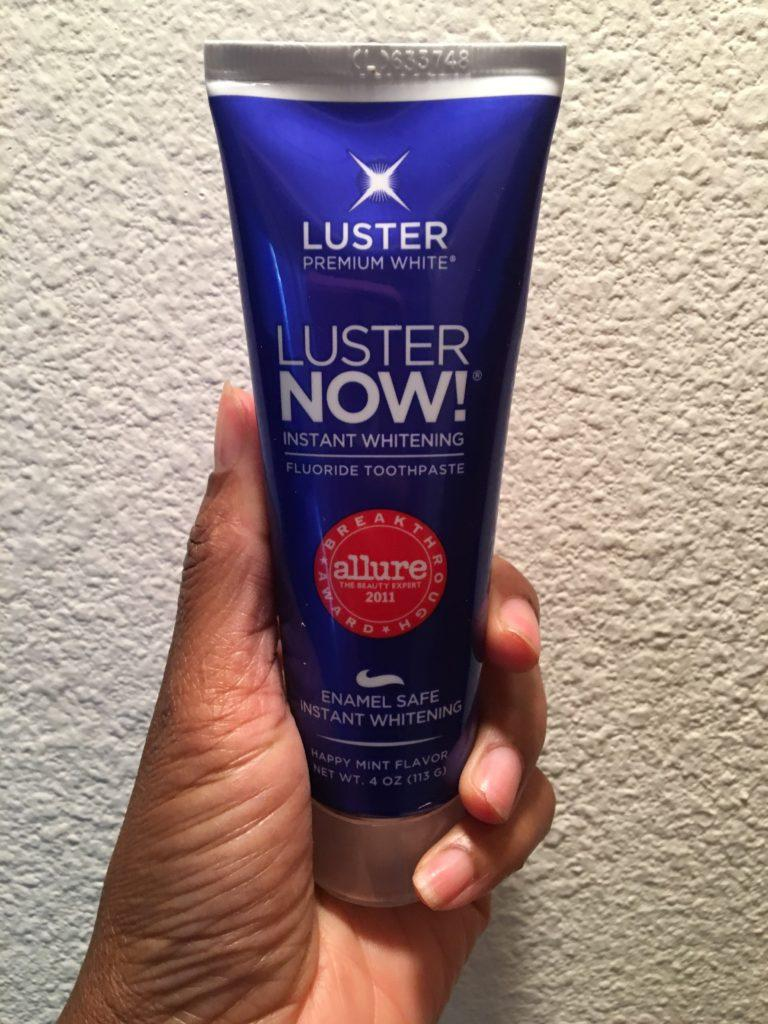toothpaste: (166, 34, 579, 915)
